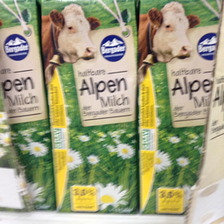milk: (39, 1, 144, 214), (138, 1, 213, 218)
